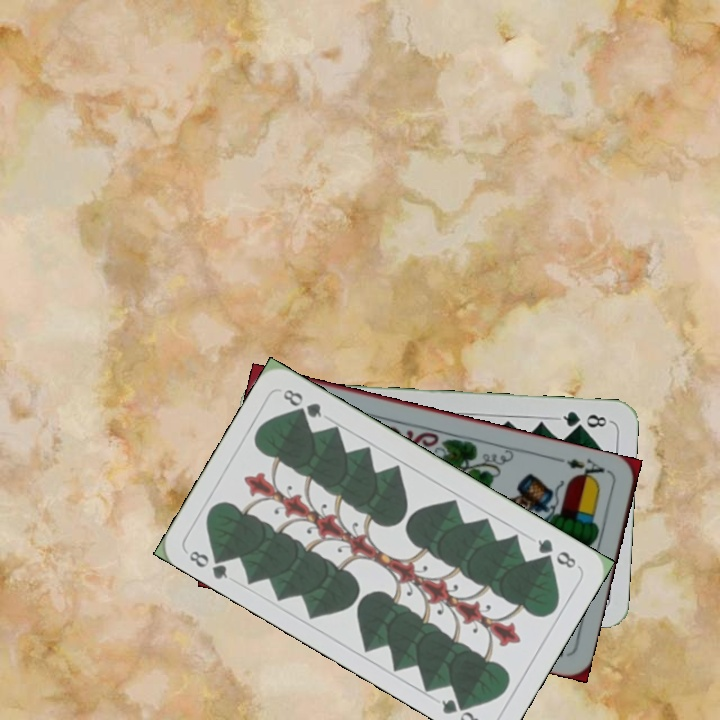EA: (562, 454, 612, 485)
G8: (533, 534, 579, 571), (185, 546, 231, 582), (553, 407, 612, 432)
